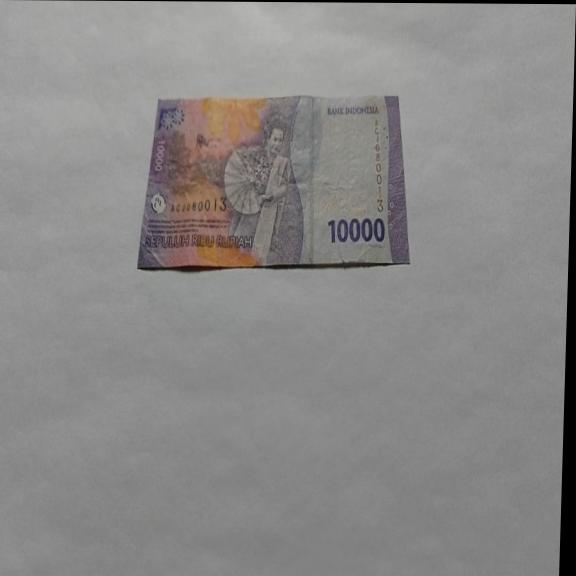Kertas: (137, 91, 415, 273), (326, 214, 386, 245)
